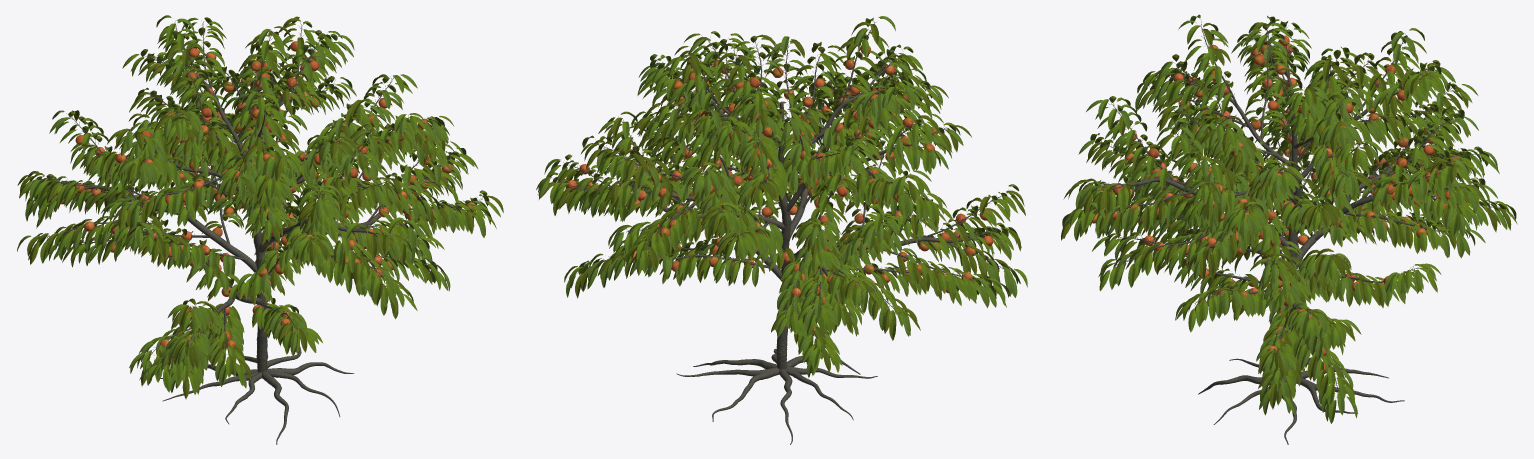
File: FBX_BS16_PrunusPersica_1.fbx
3 views of the same model, side by side, from view 1: azimuth 30°, elevation 25°; view 2: azimuth 150°, elevation 25°; view 3: azimuth 270°, elevation 25° (orthographic). The views are drawn at different scales.
Parts seen in each view (by area): view 1: Leaf01_1, Leaf02_1, Leaf03_1, Bark01_1, Fruit01_1; view 2: Leaf01_1, Leaf02_1, Leaf03_1, Bark01_1, Fruit01_1; view 3: Leaf01_1, Leaf02_1, Leaf03_1, Bark01_1, Fruit01_1.
Boxes of the visible parts, x1=… form: Leaf01_1: x1=17, y1=15, x2=500, y2=394; Leaf02_1: x1=17, y1=17, x2=491, y2=393; Leaf03_1: x1=20, y1=18, x2=503, y2=399; Bark01_1: x1=35, y1=21, x2=482, y2=444; Fruit01_1: x1=55, y1=41, x2=476, y2=358; Leaf01_1: x1=536, y1=17, x2=1027, y2=375; Leaf02_1: x1=538, y1=16, x2=1021, y2=377; Leaf03_1: x1=539, y1=22, x2=1025, y2=372; Bark01_1: x1=553, y1=19, x2=1008, y2=444; Fruit01_1: x1=566, y1=46, x2=993, y2=335; Leaf01_1: x1=1063, y1=20, x2=1517, y2=423; Leaf02_1: x1=1063, y1=14, x2=1507, y2=421; Leaf03_1: x1=1061, y1=21, x2=1511, y2=409; Bark01_1: x1=1080, y1=22, x2=1498, y2=444; Fruit01_1: x1=1092, y1=35, x2=1465, y2=373.
Size of the model in its own units: 545 by 448 by 506.
